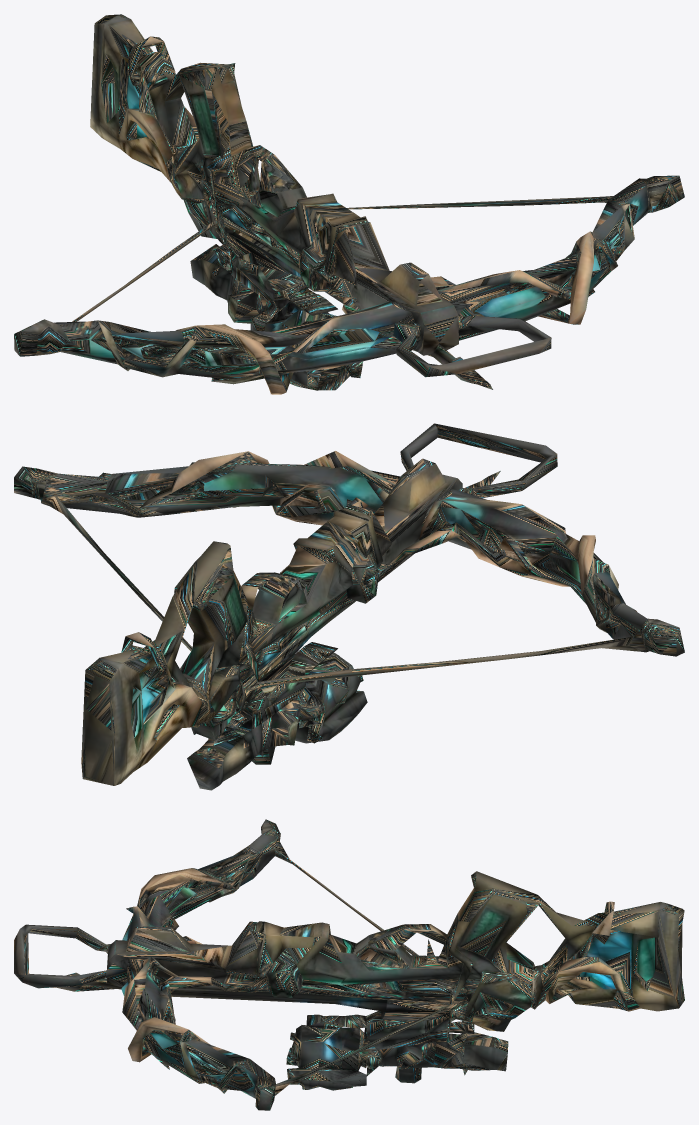
The model's file is 1126_crossbow.glb.
3 views of the same model, one above another, from view 1: azimuth 30°, elevation 25°; view 2: azimuth 150°, elevation 25°; view 3: azimuth 270°, elevation 25° (orthographic). The views are drawn at different scales.
Parts seen in each view (by area): view 1: Model; view 2: Model; view 3: Model.
Boxes of the visible parts, bbox=[...] form: Model: bbox=[14, 14, 684, 394]; Model: bbox=[14, 423, 684, 790]; Model: bbox=[14, 819, 684, 1110].
Size of the model in its own units: 0.9614 by 0.3494 by 1.
1 material, 1 textured.
